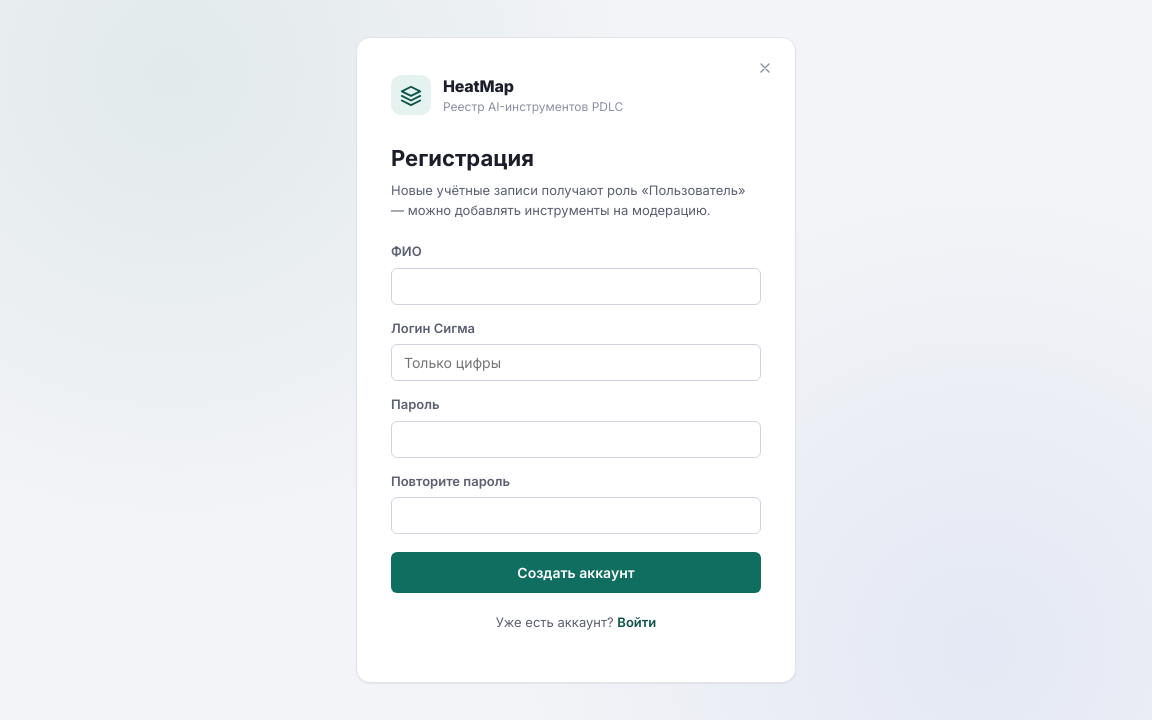
Scenario: RegisterView › rejects a password shorter than 6 characters
The image size is (1152, 720).
Type "Новый Пользователь" into the field with id "fullName". click: (576, 286)
box: [391,268,761,305]
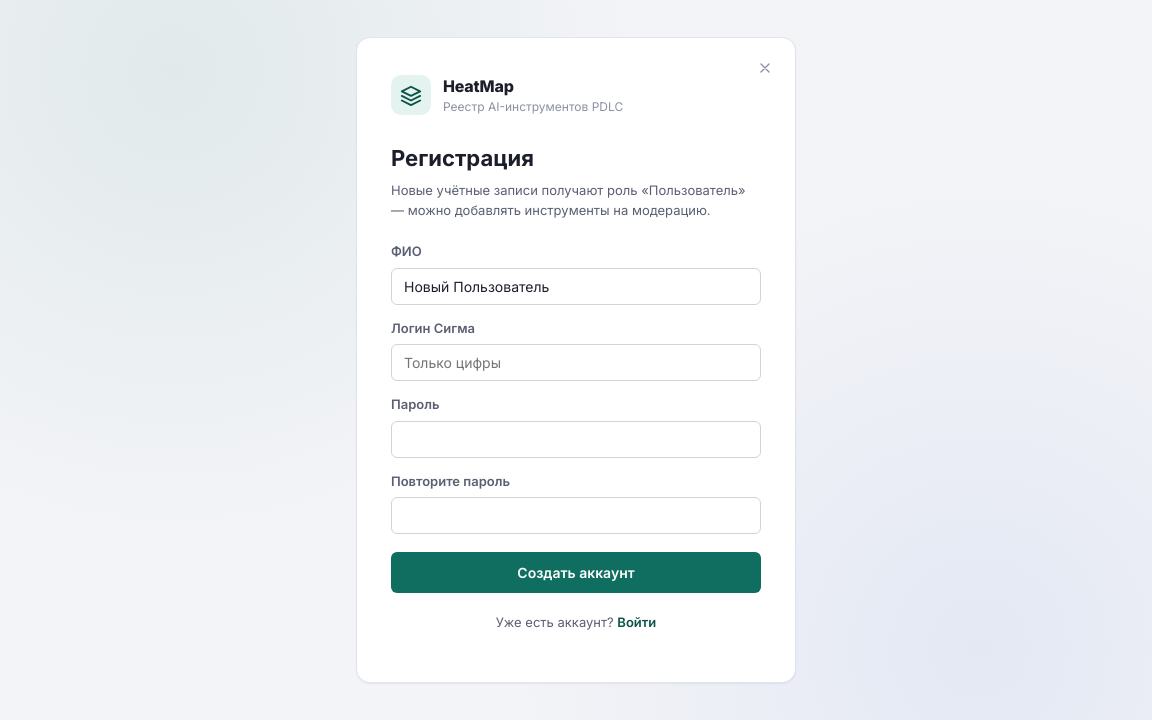
Type "2000" into the field with id "username". click: (576, 363)
box: [391,344,761,381]
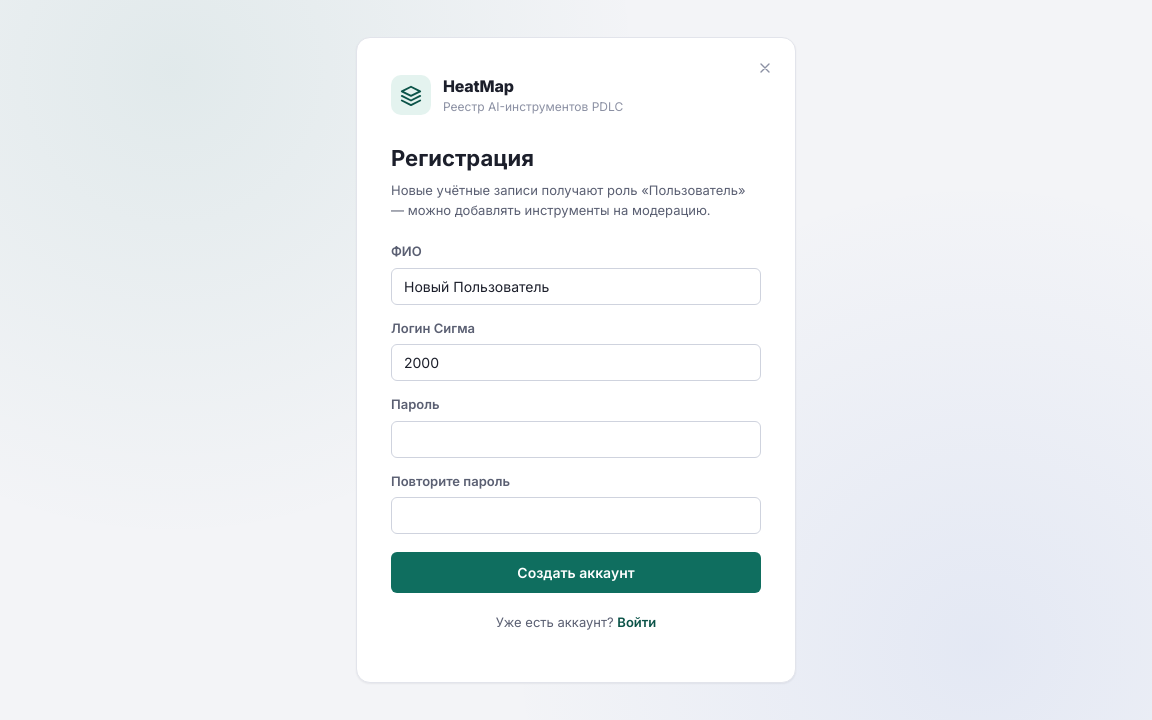
Type "123" into the password field labelled "Пароль". click: (576, 439)
box: [391,421,761,458]
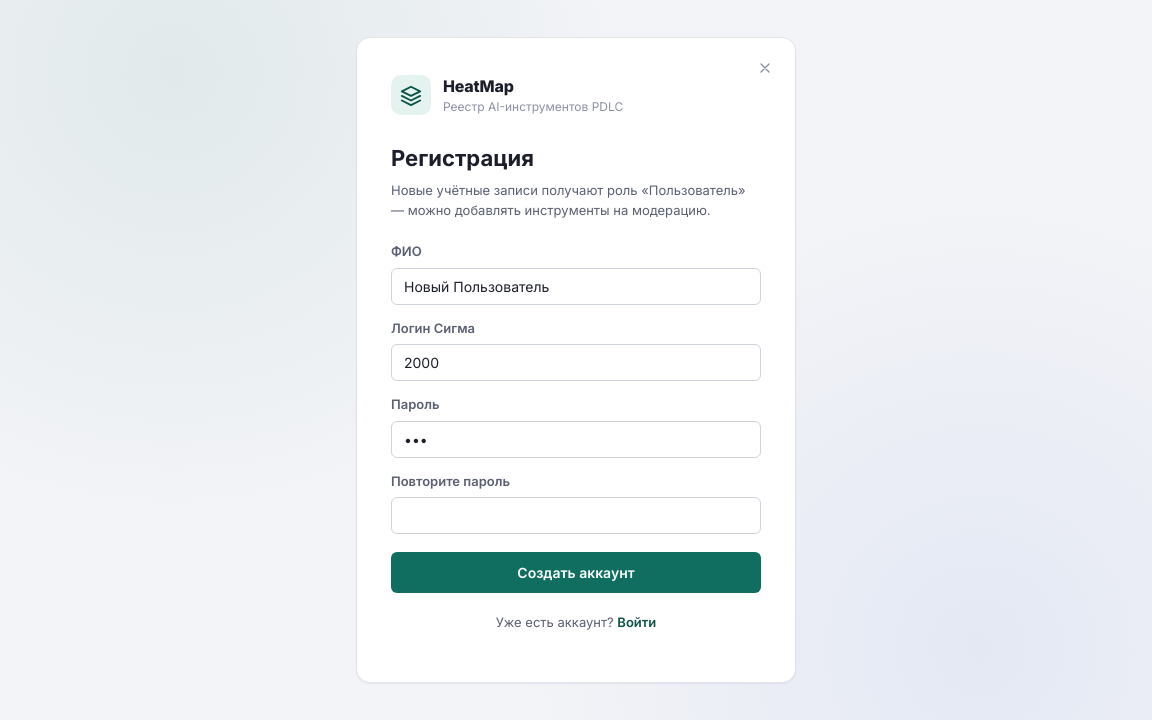
Type "123" into the password field with id "confirmPassword". click: (576, 516)
box: [391,497,761,534]
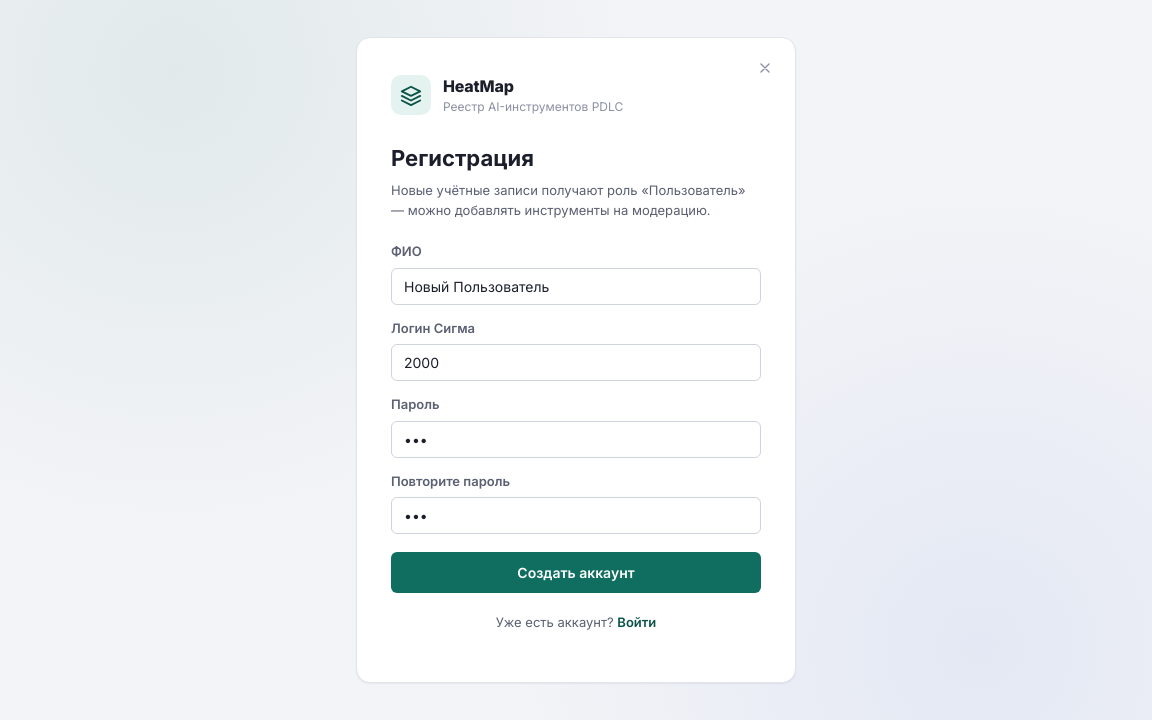
Submit the form, box [391,242,761,593]
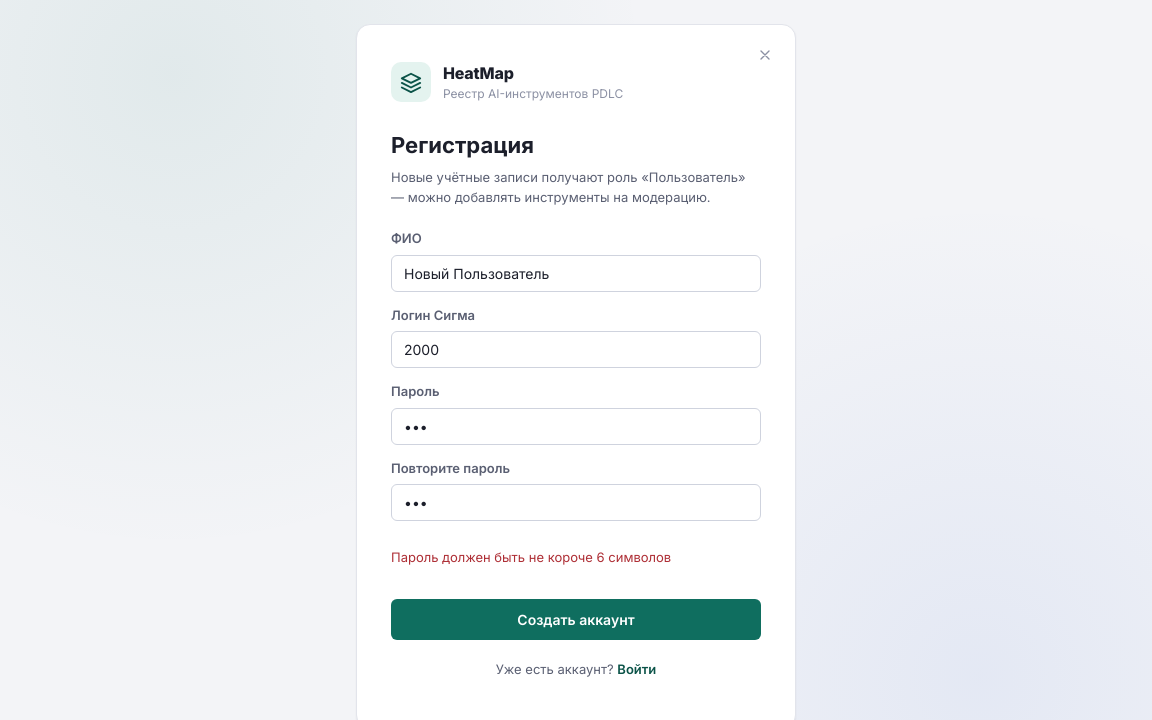
Expected: the text with class "error-text" reads "Пароль должен быть не короче 6 символов", [391,549,671,565]
